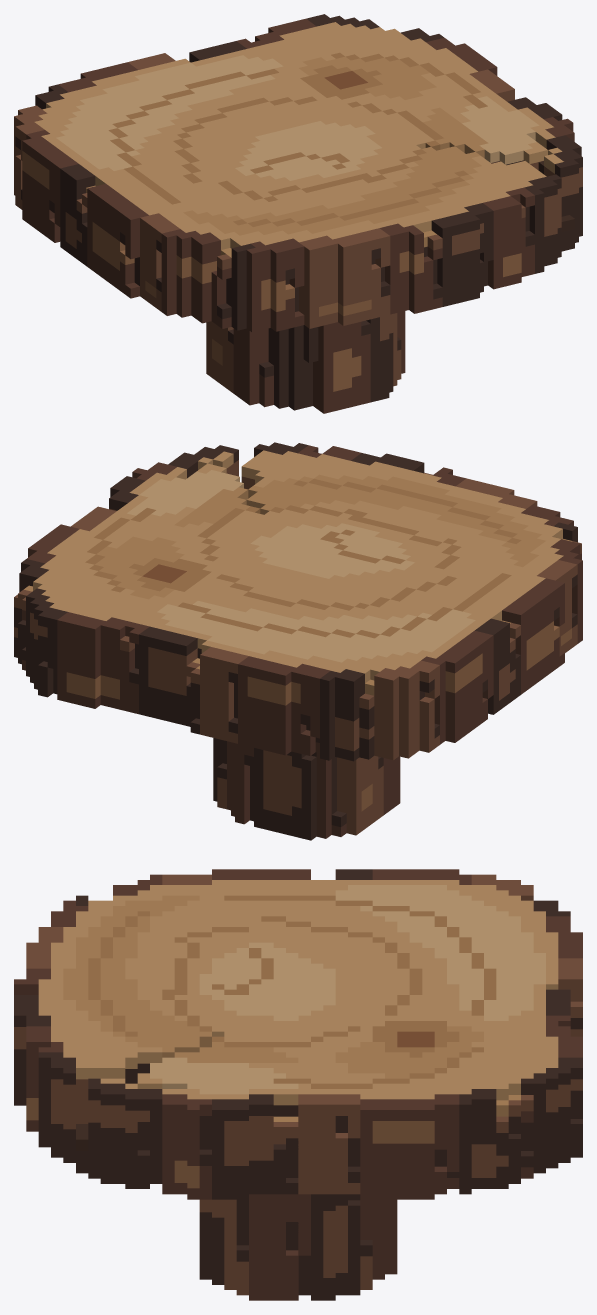
Rendered from dining_table_applewood.glb.
3 views of the same model, one above another, from view 1: azimuth 30°, elevation 25°; view 2: azimuth 150°, elevation 25°; view 3: azimuth 270°, elevation 25° (orthographic). The views are drawn at different scales.
Visible parts, largest first — view 1: VoxelVisual; view 2: VoxelVisual; view 3: VoxelVisual.
Boxes of the visible parts, x1=… form: VoxelVisual: x1=14, y1=14, x2=582, y2=413; VoxelVisual: x1=14, y1=442, x2=582, y2=840; VoxelVisual: x1=14, y1=869, x2=582, y2=1300.
Size of what is drawn, in the model's own units: 2.88 by 1.5 by 2.88.
